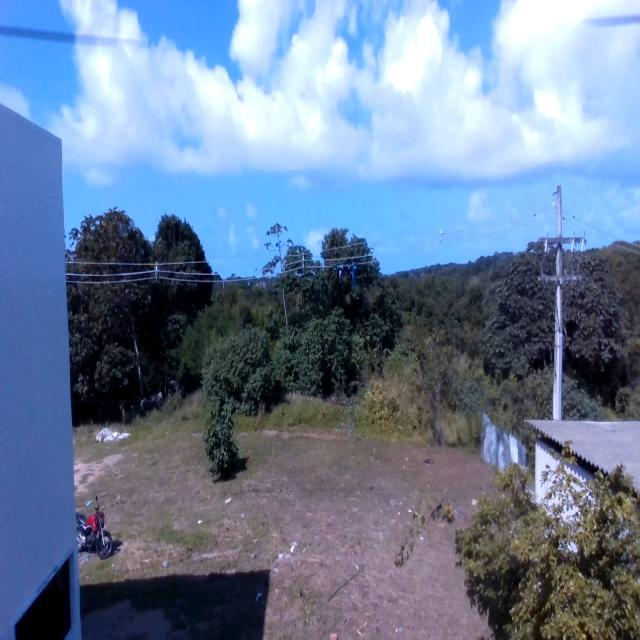-uav-: (329, 249, 364, 301)
